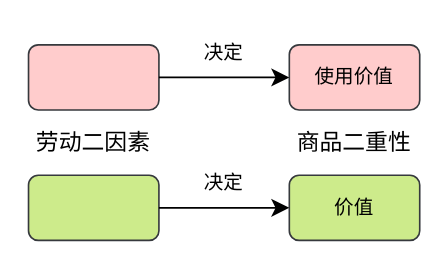
Image size: 448x269. Some labels were removed from this diagram. The centre of each missing label's shape, as x and y in pixels:
具体劳动: the point at 93,76
抽象劳动: the point at 93,207
